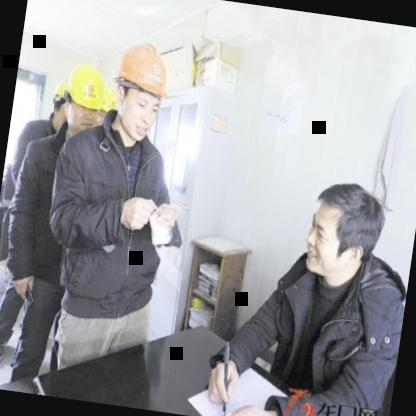head: (296, 173, 390, 287)
helmet: (106, 34, 172, 140), (59, 62, 109, 135), (46, 68, 78, 129)
